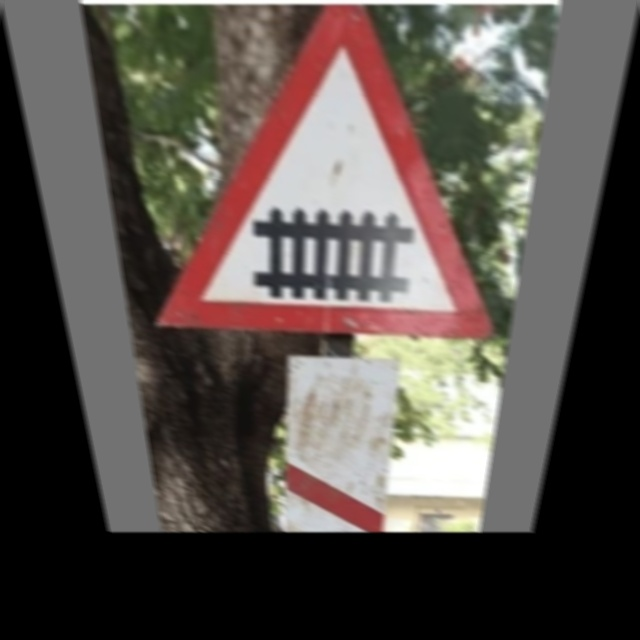Guarded_Level_Crossing: (137, 27, 516, 330)
